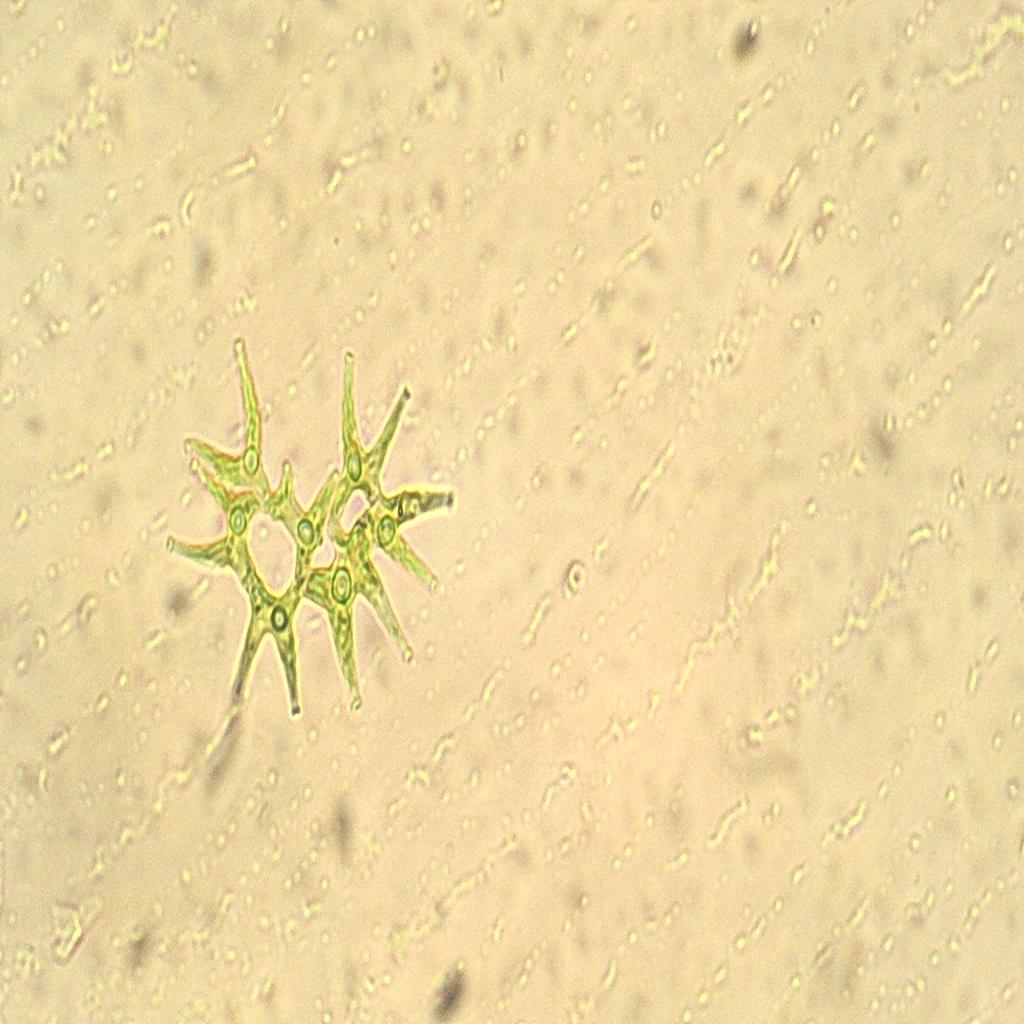Pediastrum_CFI: (138, 315, 476, 758)
